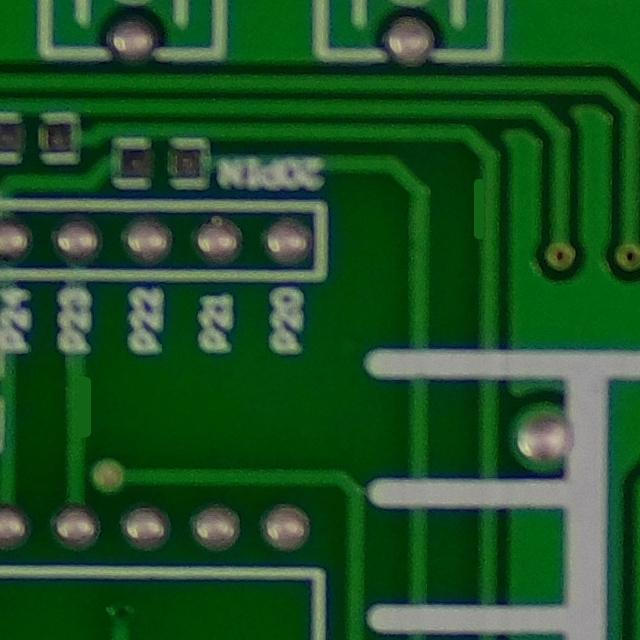spur: (61, 368, 102, 448), (462, 166, 499, 247)
